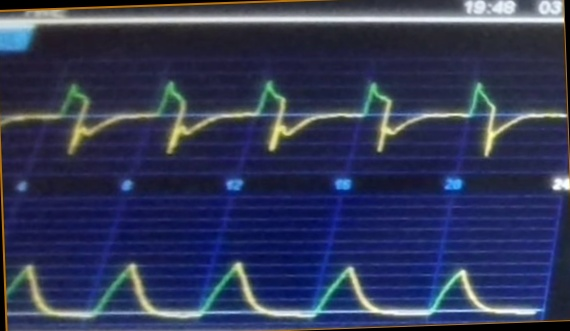Premature_cycling Flow: (2, 69, 563, 163)
Premature_cycling Volume: (9, 240, 538, 321)
